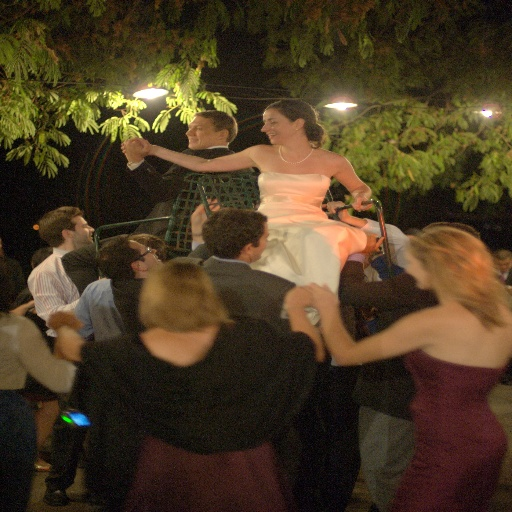hand: (112, 127, 172, 162), (189, 196, 222, 234), (302, 279, 338, 310), (281, 283, 312, 310), (45, 309, 85, 329), (346, 187, 377, 211), (322, 198, 349, 223), (360, 231, 386, 256), (120, 141, 148, 163)
